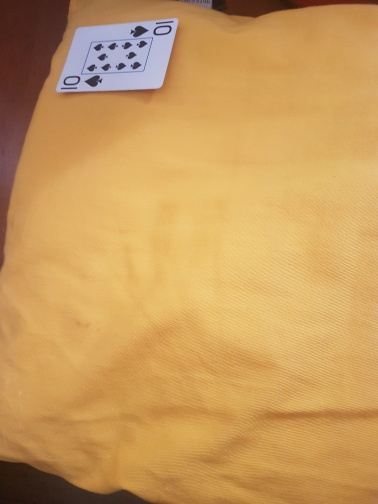ten: (53, 17, 179, 91)
